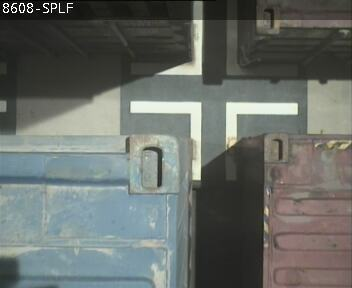groundmarker_1: (130, 101, 297, 179), (129, 1, 296, 74)
